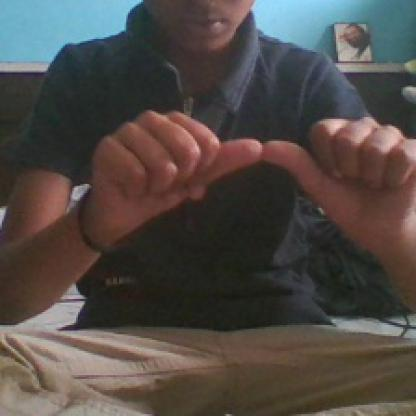A: (81, 95, 414, 250)
